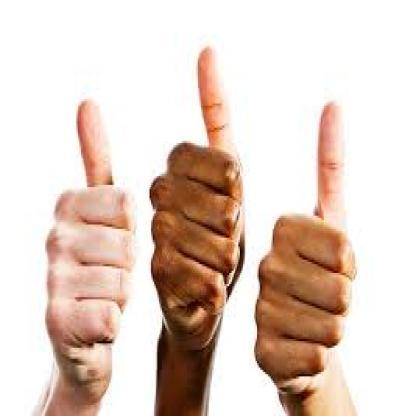thumb_up: (147, 40, 248, 354), (254, 102, 357, 400), (40, 91, 141, 394)
